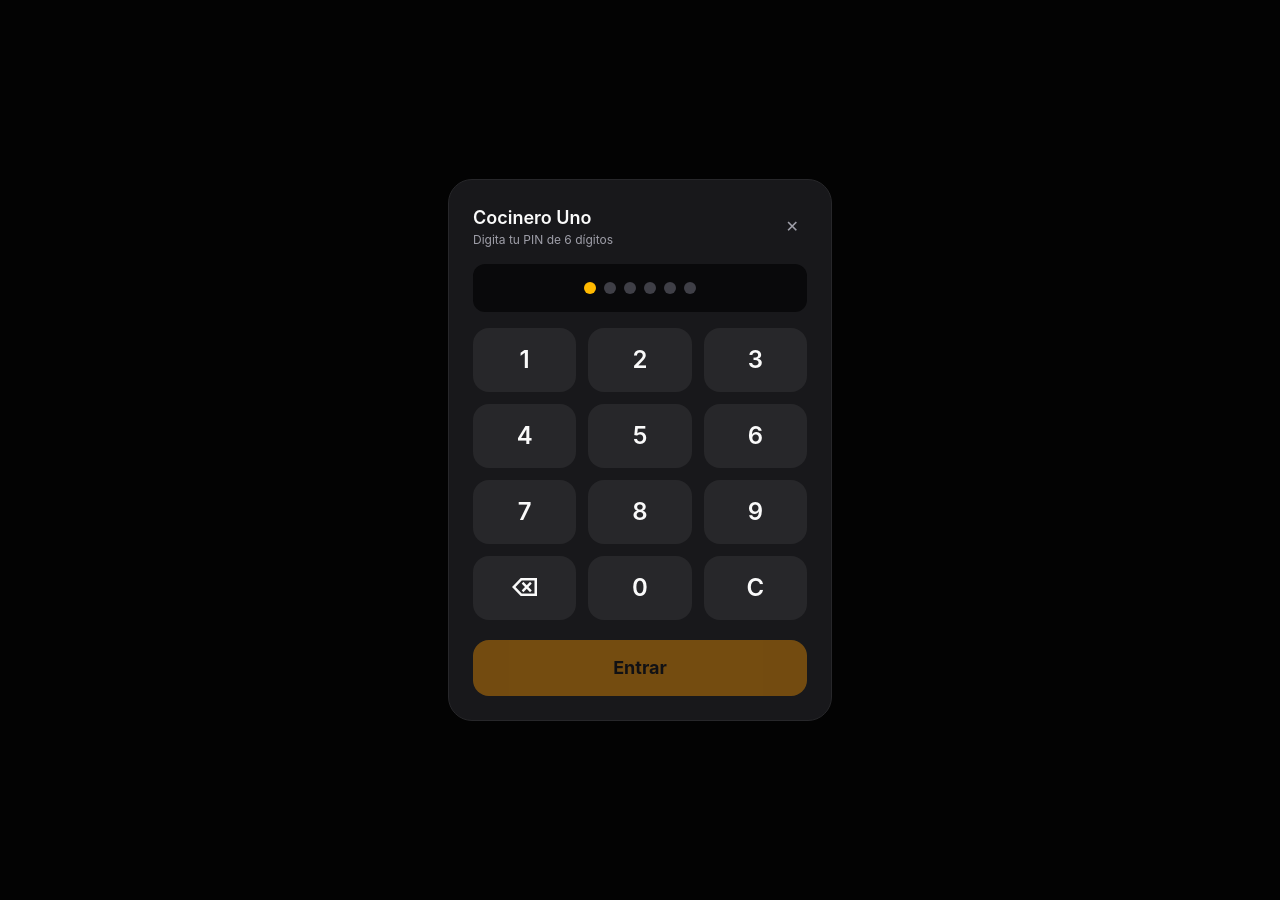
it: PinModal › limpia el PIN y muestra error con credenciales invalidas
This screenshot has width=1280, height=900.
Earlier steps of the test are not shown.
Click the button "0". click: click(640, 588)
box: [588, 556, 692, 620]
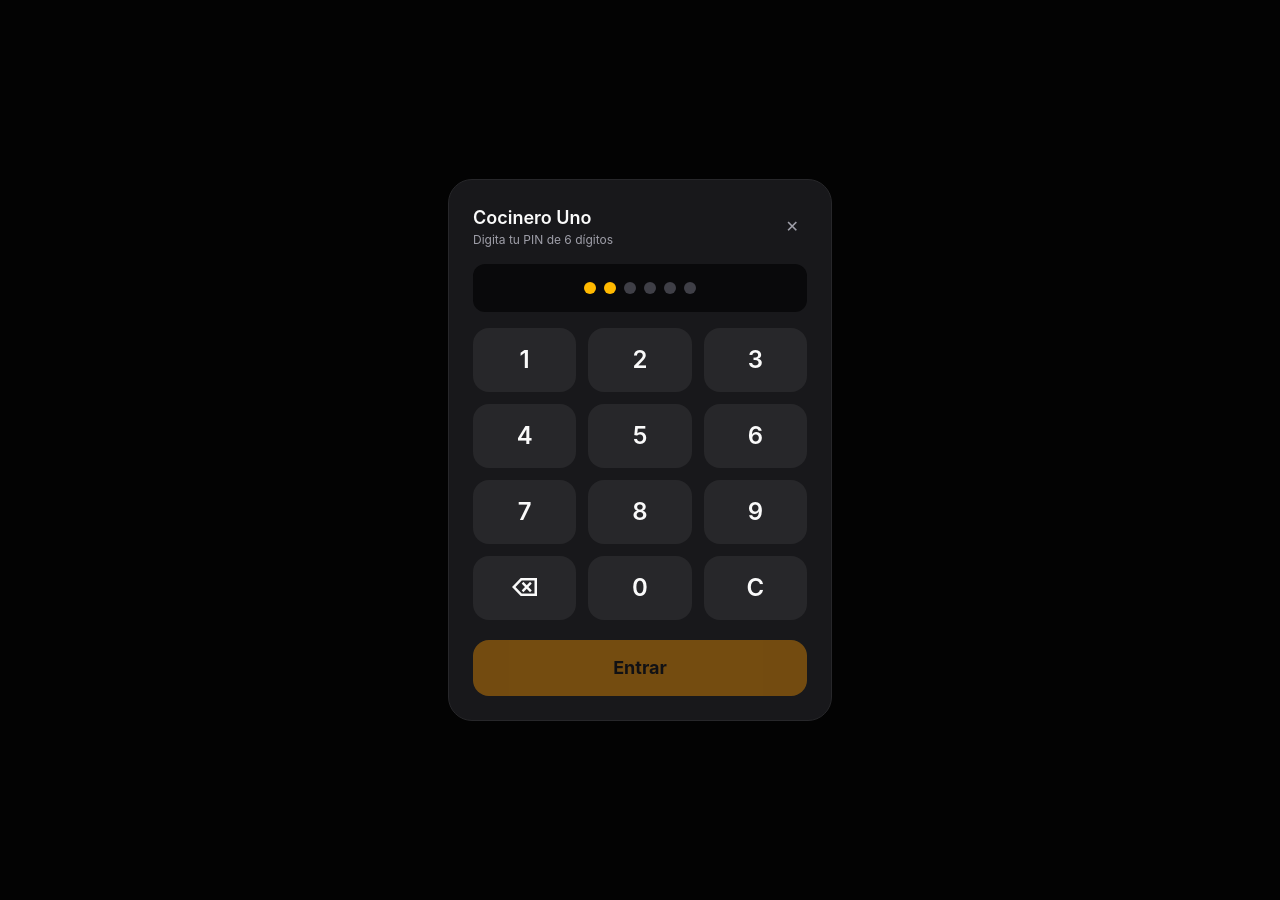
Click the button "0". click: click(640, 588)
box: [588, 556, 692, 620]
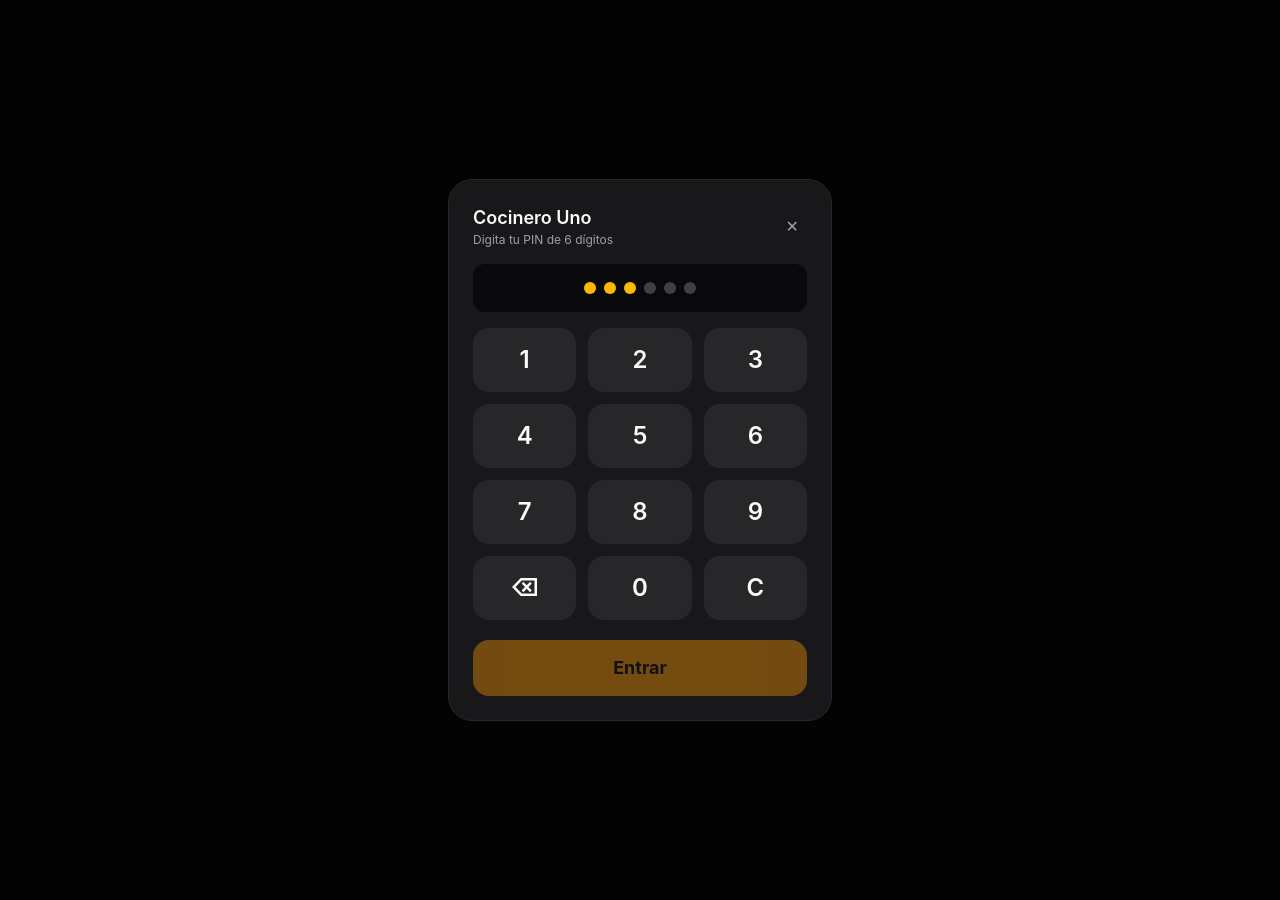
Click the button "0". click: click(640, 588)
box: [588, 556, 692, 620]
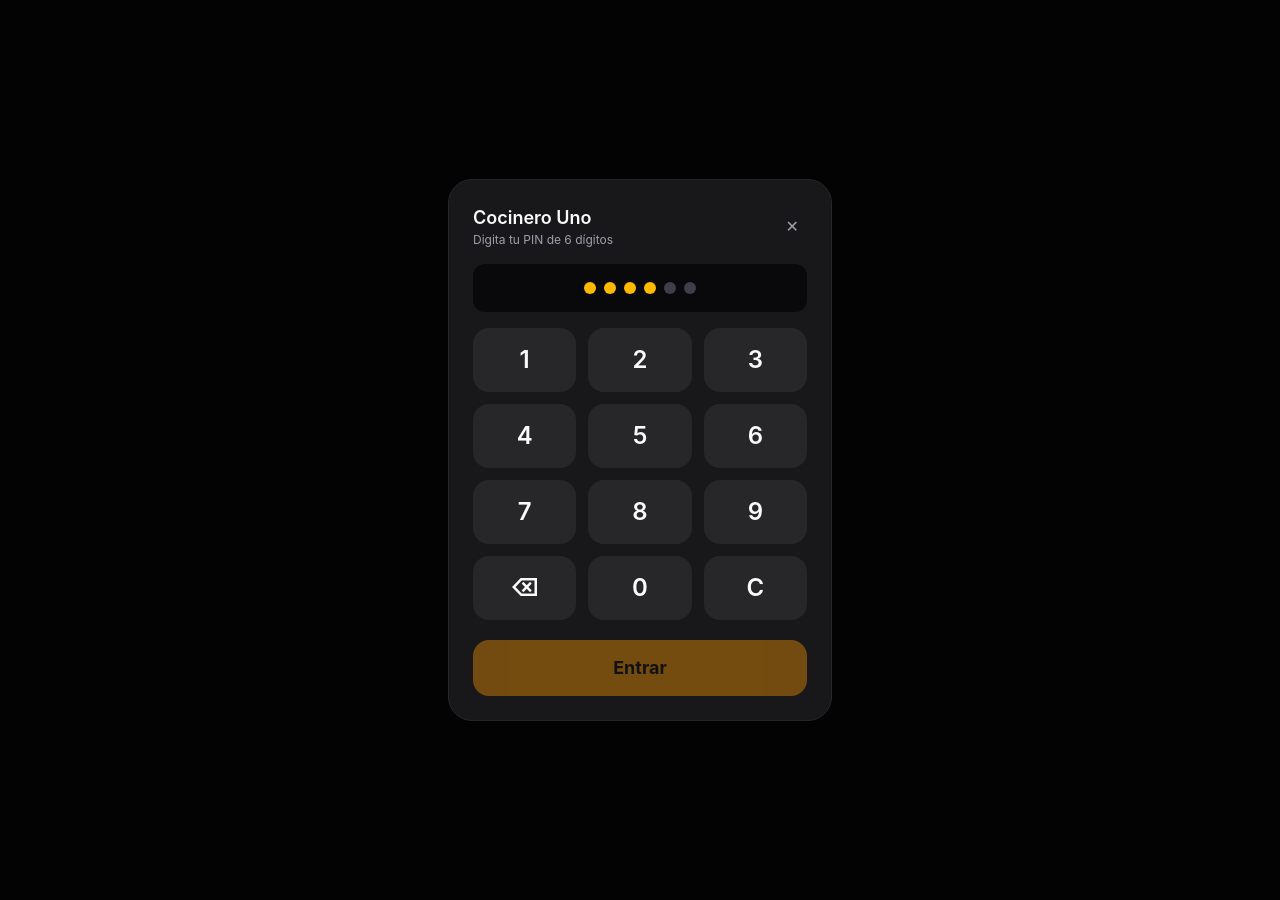
Click the button "0". click: click(640, 588)
box: [588, 556, 692, 620]
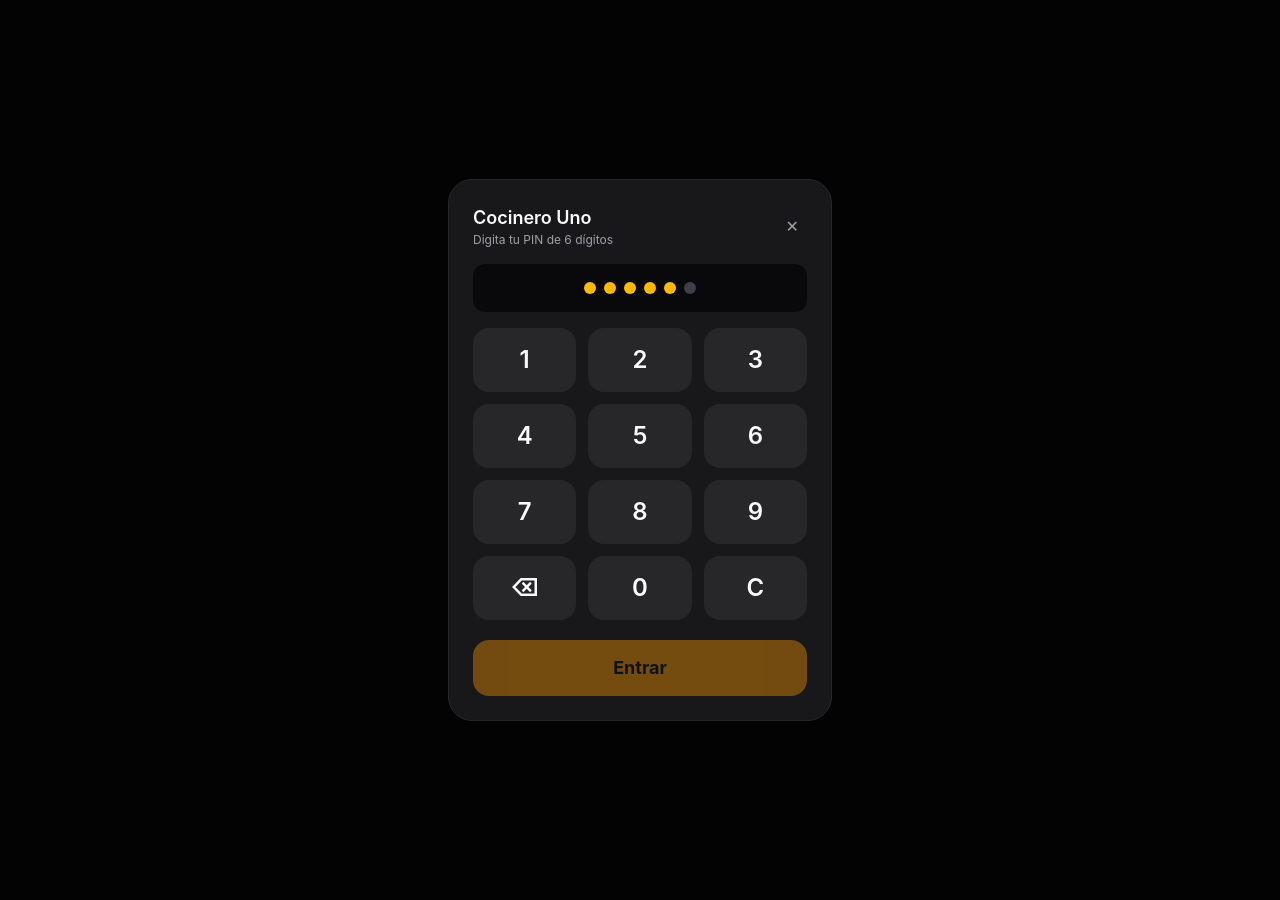
Click the button "0". click: click(640, 588)
box: [588, 556, 692, 620]
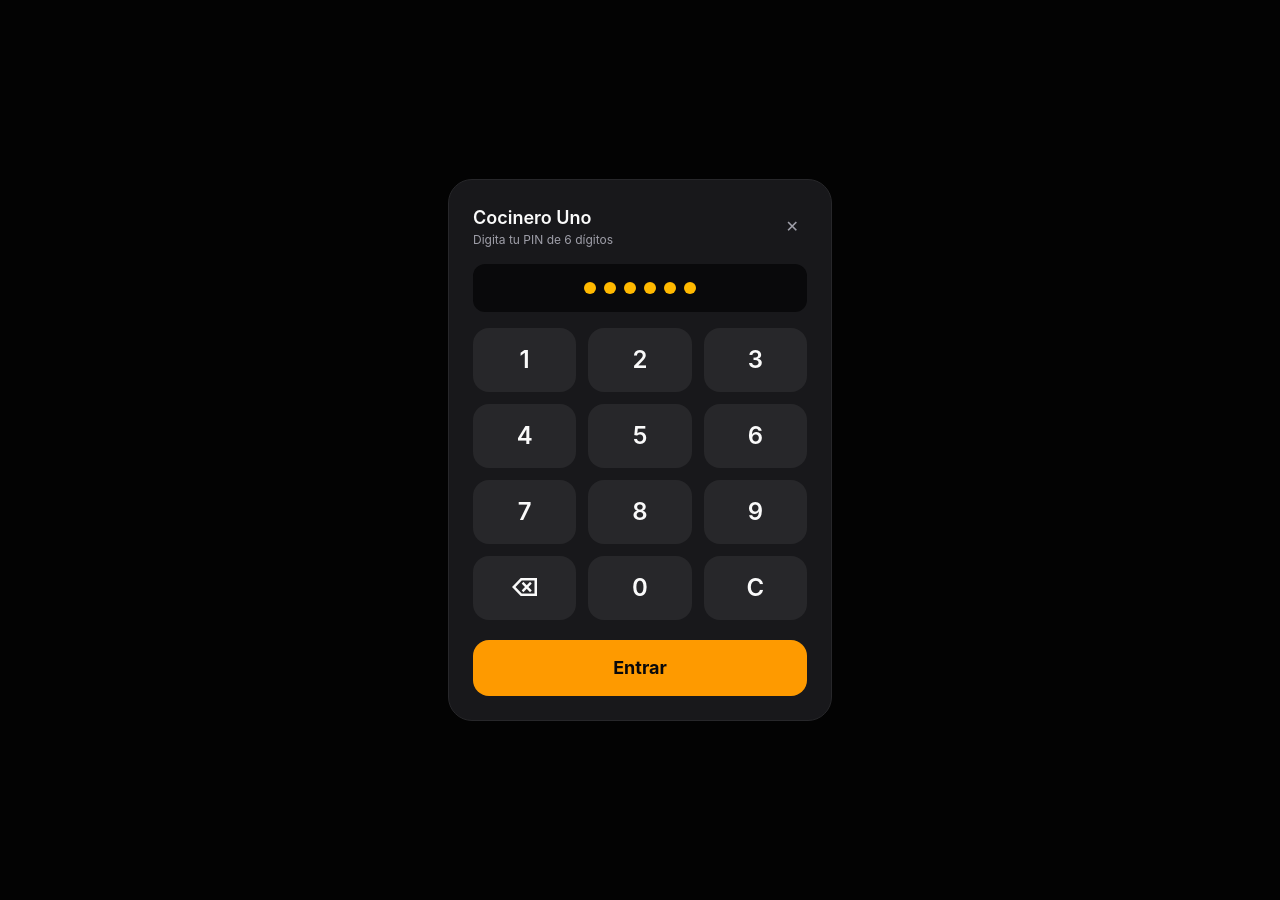
Click the button "Entrar". click: click(640, 668)
box: [473, 640, 807, 696]
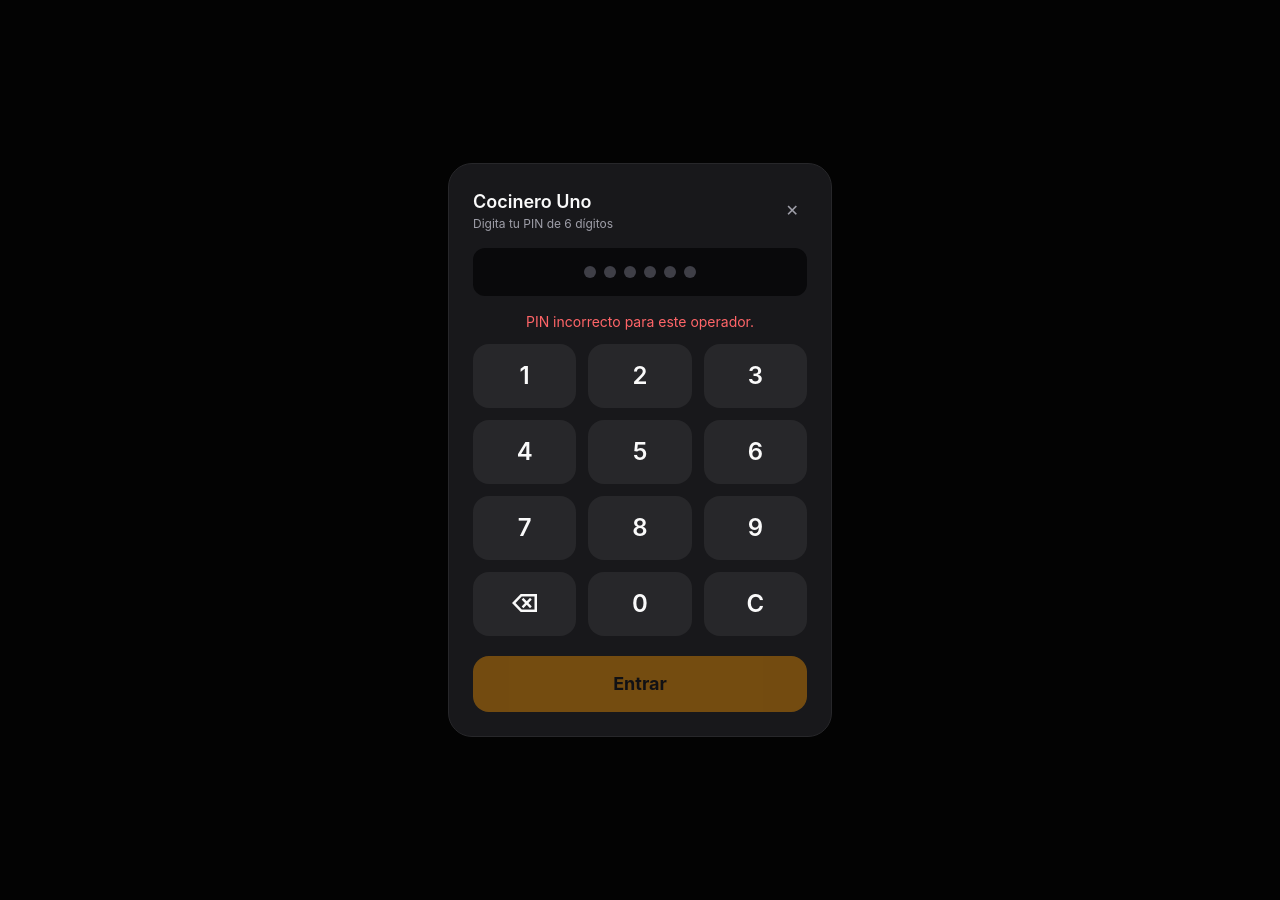
Result: the message shows "PIN incorrecto" at [526, 313, 754, 330]
Result: the button "Entrar" is disabled at [473, 656, 807, 712]
